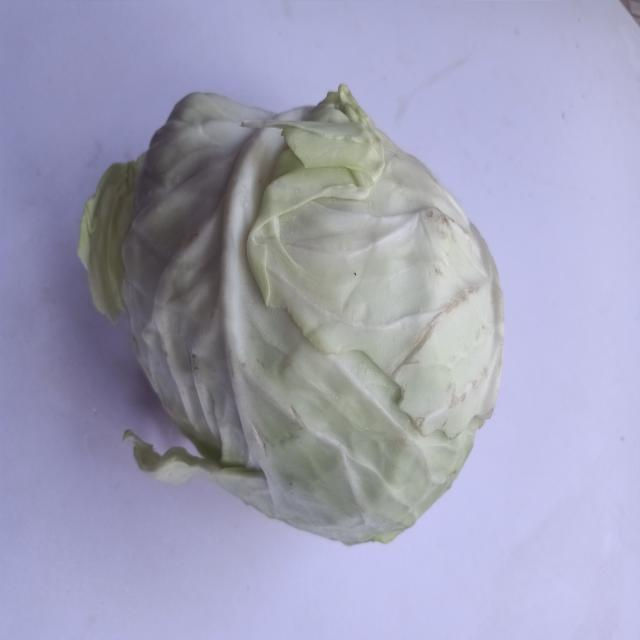Cabbage: (65, 67, 528, 554)
